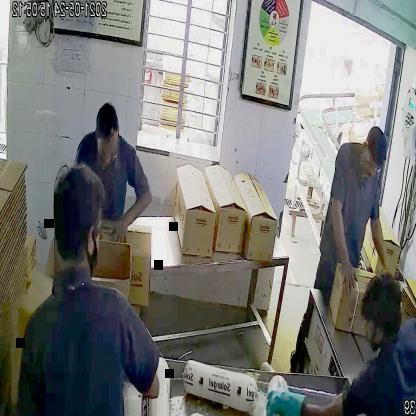goggles: (366, 153, 386, 176)
